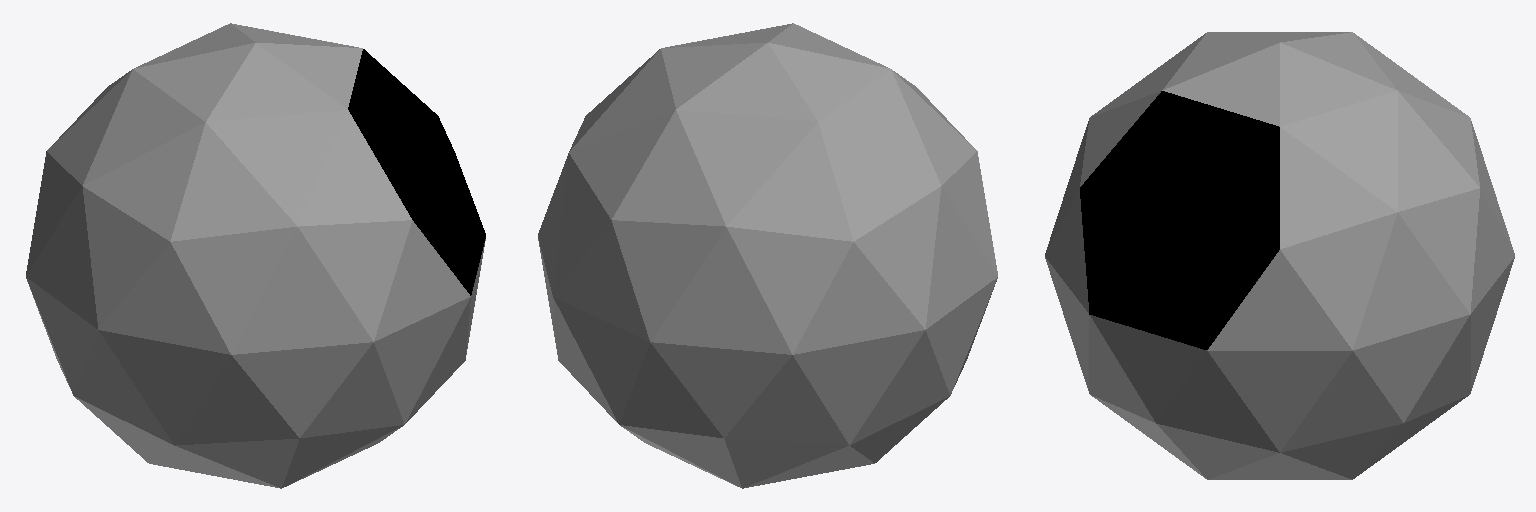
The model's file is physical-sphere2.obj.
The picture shows the model from 3 angles: view 1: azimuth 30°, elevation 25°; view 2: azimuth 150°, elevation 25°; view 3: azimuth 270°, elevation 25°; orthographic projection.
Parts seen in each view (by area): view 1: Icosphere; view 2: Icosphere; view 3: Icosphere.
Part boxes in pixels (left/top/right/bottom): Icosphere: left=26, top=23, right=485, bottom=488; Icosphere: left=538, top=23, right=997, bottom=488; Icosphere: left=1045, top=32, right=1514, bottom=479.
Bounding box in the file's own units: 1.9 × 2 × 2.